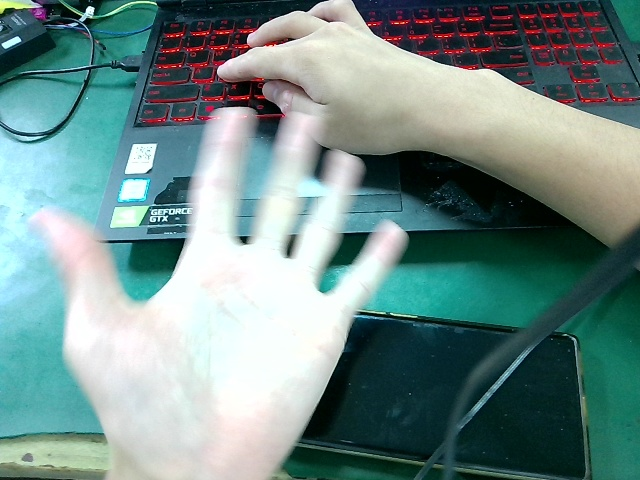paper: (27, 102, 409, 480)
